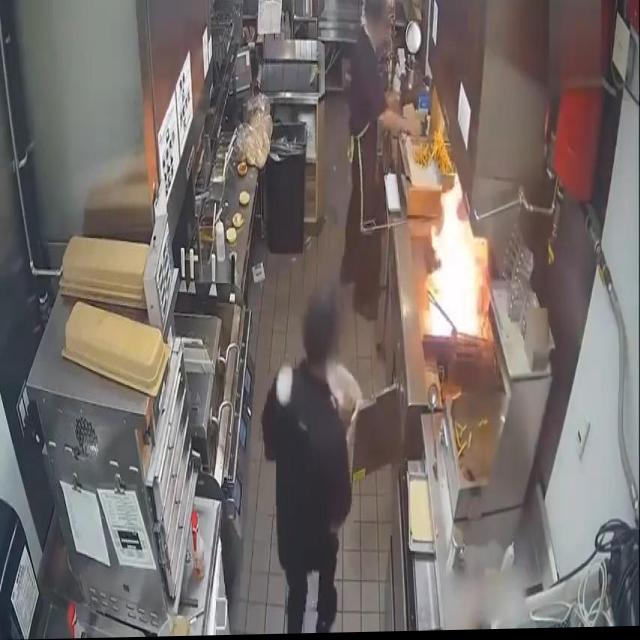fire: (424, 171, 490, 348)
